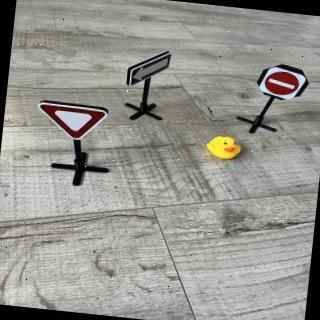duck_regular: (205, 135, 244, 162)
sign_noentry: (256, 63, 308, 104)
sign_oneway_left: (126, 48, 173, 93)
sign_yield: (35, 101, 115, 146)
